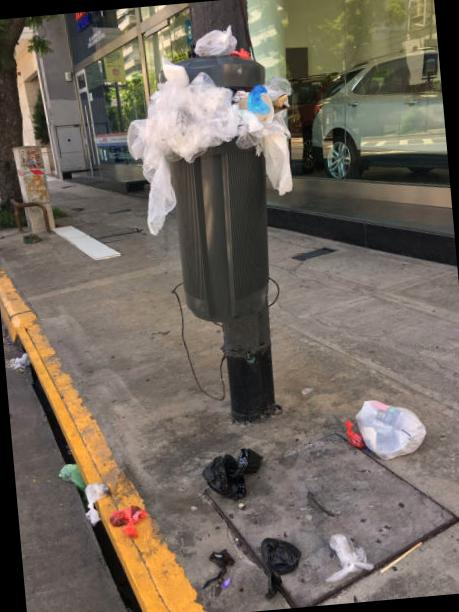trash: (121, 59, 302, 233), (331, 382, 435, 469), (186, 427, 280, 503), (245, 522, 313, 602), (316, 519, 376, 587), (51, 464, 111, 531), (95, 492, 158, 550), (174, 20, 266, 59), (206, 534, 236, 591), (3, 346, 35, 382)
trash_can_overflow: (156, 9, 325, 450)
